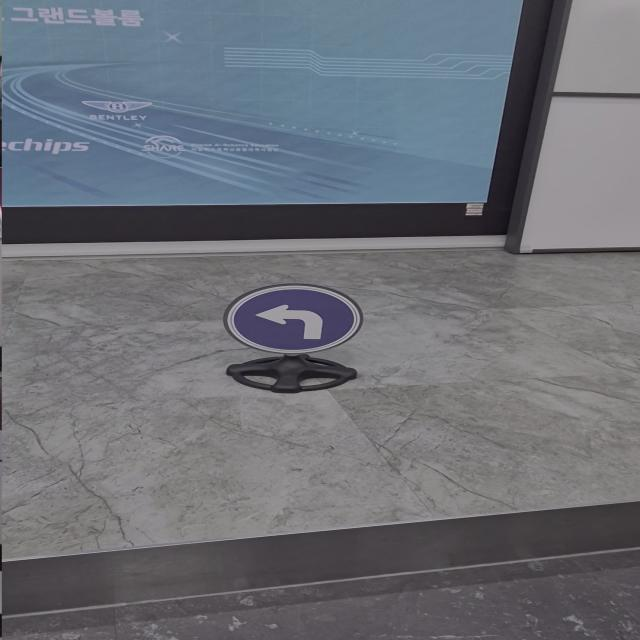left_direction: (223, 279, 371, 356)
